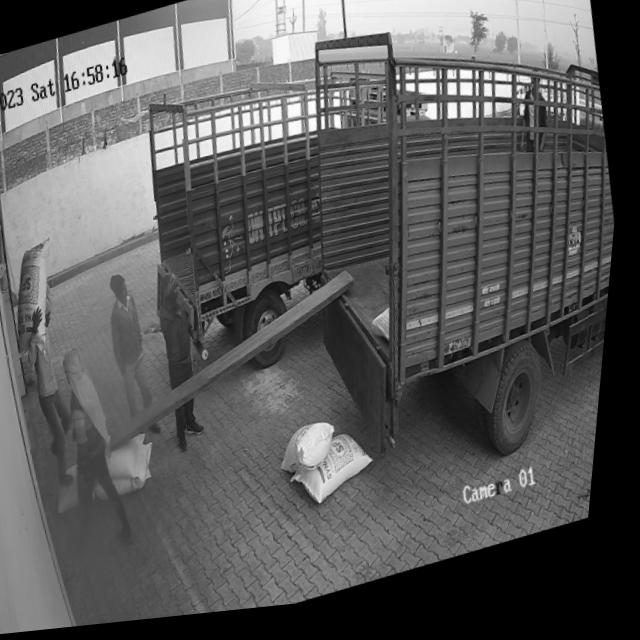sack: (291, 433, 389, 520), (5, 239, 76, 359), (282, 423, 350, 485), (97, 447, 168, 505), (111, 436, 161, 488)
